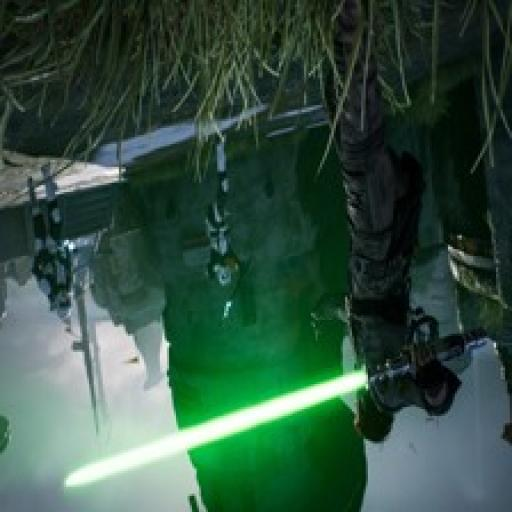lightsaber: (59, 325, 492, 489)
